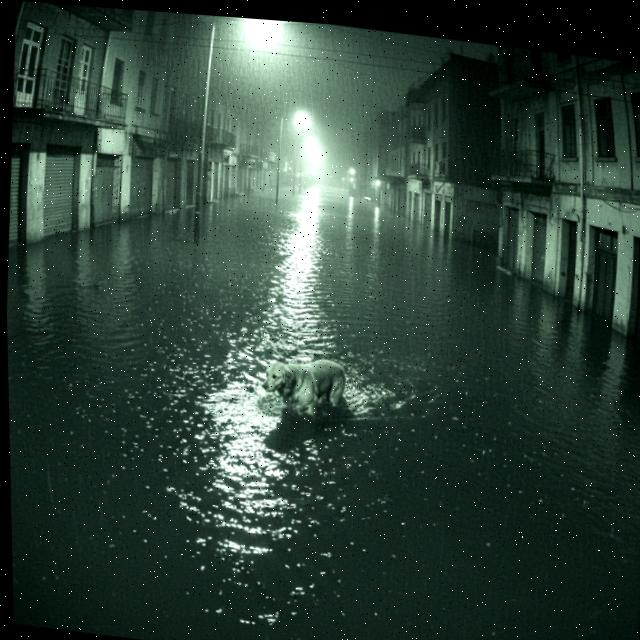dog: (253, 344, 362, 429)
